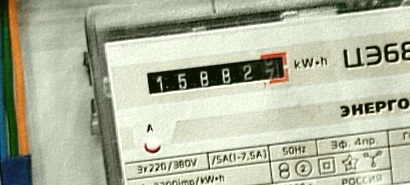1: (154, 73, 166, 92)
2: (242, 62, 254, 81)
5: (176, 72, 189, 90)
7: (264, 67, 276, 79)
8: (197, 68, 211, 87), (220, 65, 232, 84)
screen: (138, 47, 296, 103)
